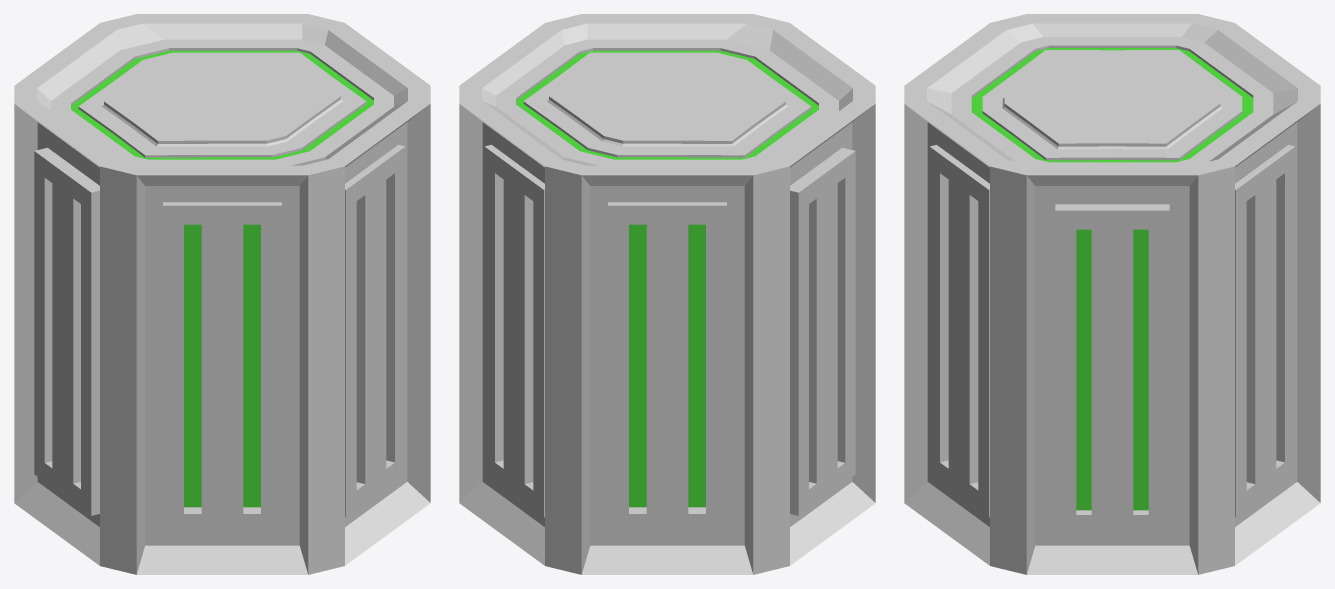
The model's file is Macguffin.fbx.
The picture shows the model from 3 angles, left to right: view 1: azimuth 30°, elevation 25°; view 2: azimuth 150°, elevation 25°; view 3: azimuth 270°, elevation 25°; orthographic projection.
Parts seen in each view (by area): view 1: Macguffin; view 2: Macguffin; view 3: Macguffin.
Part boxes in pixels (x1=…): Macguffin: x1=14, y1=14, x2=430, y2=574; Macguffin: x1=459, y1=14, x2=875, y2=574; Macguffin: x1=904, y1=14, x2=1320, y2=574.
Size of what is drawn, in the model's own units: 550 by 600 by 636.
